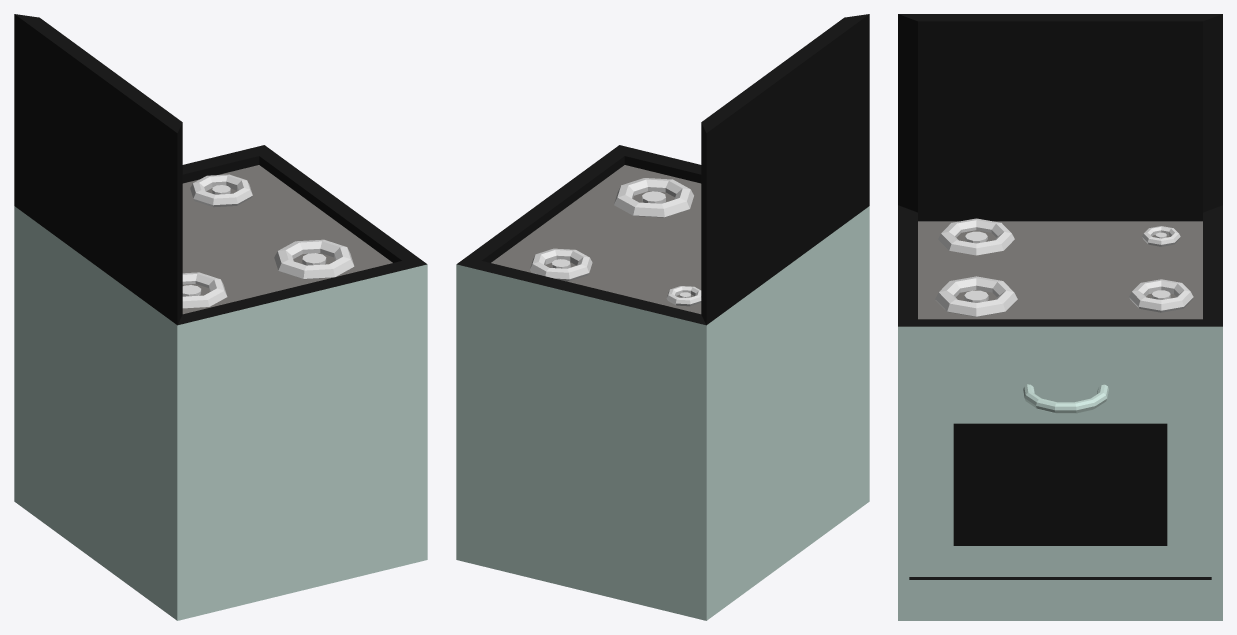
File: stove.fbx
The picture shows the model from 3 angles, left to right: view 1: azimuth 30°, elevation 25°; view 2: azimuth 150°, elevation 25°; view 3: azimuth 270°, elevation 25°; orthographic projection.
Visible parts, largest first — view 1: stove, StoveRing.003, StoveRing.002, StoveRing; view 2: stove, StoveRing.003, StoveRing.002; view 3: stove, StoveRing.003, StoveRing, StoveRing.002, Handle, StoveRing.001.
Part boxes in pixels (x1,y1,x2,y2): stove: (14, 14, 427, 620); StoveRing.003: (274, 239, 354, 279); StoveRing.002: (190, 174, 252, 207); StoveRing: (182, 272, 227, 308); stove: (456, 14, 869, 620); StoveRing.003: (614, 178, 693, 217); StoveRing.002: (530, 248, 592, 281); stove: (898, 14, 1222, 620); StoveRing.003: (935, 276, 1017, 316); StoveRing: (938, 218, 1014, 255); StoveRing.002: (1129, 279, 1193, 312); Handle: (1023, 384, 1108, 413); StoveRing.001: (1142, 226, 1180, 246).
Bounding box in the file's own units: 393 × 638 × 386.
